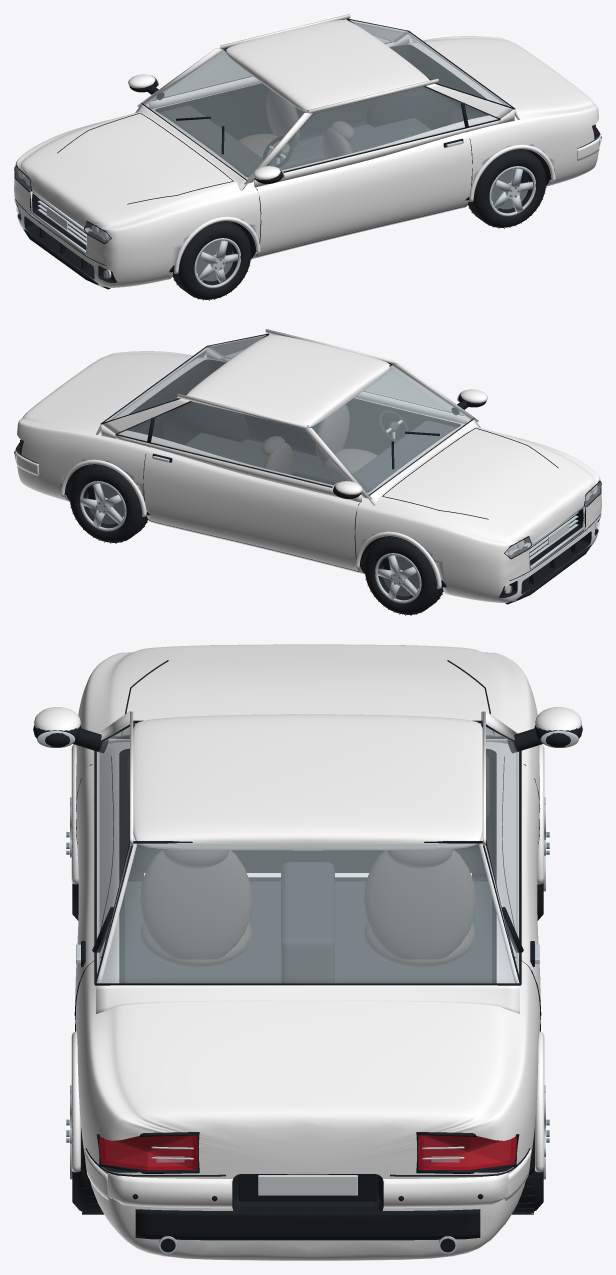
The model's file is coupe.glb.
The picture shows the model from 3 angles, top to bottom: view 1: azimuth 30°, elevation 25°; view 2: azimuth 150°, elevation 25°; view 3: azimuth 270°, elevation 25°; orthographic projection. The views are drawn at different scales.
Parts seen in each view (by area): view 1: Original two_door_coupe fourteen-section body shell, Separate closed door panel, Crowned roof pressing, Raked transparent windscreen, Single long coupe door glass, Separate closed door panel.001, Rear transparent coupe glass, Original tyre carcass and shaped sidewalls, Original tyre carcass and shaped sidewalls.002, Wheelhouse arched liner.003, Sculpted instrument panel, Coupe door glazing shoulder (+26 smaller); view 2: Original two_door_coupe fourteen-section body shell, Separate closed door panel.001, Crowned roof pressing, Raked transparent windscreen, Single long coupe door glass.001, Separate closed door panel, Rear transparent coupe glass, Original tyre carcass and shaped sidewalls.001, Original tyre carcass and shaped sidewalls.003, Wheelhouse arched liner.002, Sculpted instrument panel, Coupe door glazing shoulder.001 (+26 smaller); view 3: Original two_door_coupe fourteen-section body shell, Rear transparent coupe glass, Crowned roof pressing, Interior carpet, Sculpted rear lower bumper insert, Contoured seat back, Contoured seat back.001, Painted rear glass sill, Formed painted rear bumper cover, Center console, Separate closed door panel.001, Separate closed door panel (+23 smaller).
Part boxes in pixels (x1,y1,x2,y2): Original two_door_coupe fourteen-section body shell: (14,36,599,287); Separate closed door panel: (256,132,472,255); Crowned roof pressing: (225,20,429,112); Raked transparent windscreen: (143,50,307,179); Single long coupe door glass: (267,86,497,171); Separate closed door panel.001: (157,84,366,140); Rear transparent coupe glass: (350,20,510,106); Original tyre carcass and shaped sidewalls: (173,221,251,299); Original tyre carcass and shaped sidewalls.002: (468,149,546,227); Wheelhouse arched liner.003: (366,86,453,129); Sculpted instrument panel: (159,105,272,177); Coupe door glazing shoulder: (254,119,500,187); Original two_door_coupe fourteen-section body shell: (16,351,601,602); Separate closed door panel.001: (143,447,359,570); Crowned roof pressing: (186,335,390,427); Raked transparent windscreen: (308,365,472,494); Single long coupe door glass.001: (118,401,348,486); Separate closed door panel: (249,398,458,455); Rear transparent coupe glass: (105,335,265,421); Original tyre carcass and shaped sidewalls.001: (364,536,442,614); Original tyre carcass and shaped sidewalls.003: (69,464,147,542); Wheelhouse arched liner.002: (162,401,249,444); Sculpted instrument panel: (343,420,456,492); Coupe door glazing shoulder.001: (115,434,361,502); Original two_door_coupe fourteen-section body shell: (75,644,540,1260); Rear transparent coupe glass: (97,843,518,983); Crowned roof pressing: (133,714,482,850); Interior carpet: (124,881,491,983); Sculpted rear lower bumper insert: (135,1209,480,1240); Contoured seat back: (140,849,252,959); Contoured seat back.001: (363,849,475,959); Painted rear glass sill: (96,985,519,1013); Formed painted rear bumper cover: (107,1173,508,1208); Center console: (281,862,334,983); Separate closed door panel.001: (492,756,540,1023); Separate closed door panel: (75,756,123,1023).
Size of the model in its own units: 4.54 by 1.36 by 2.15.
11 materials, 10 textured.
